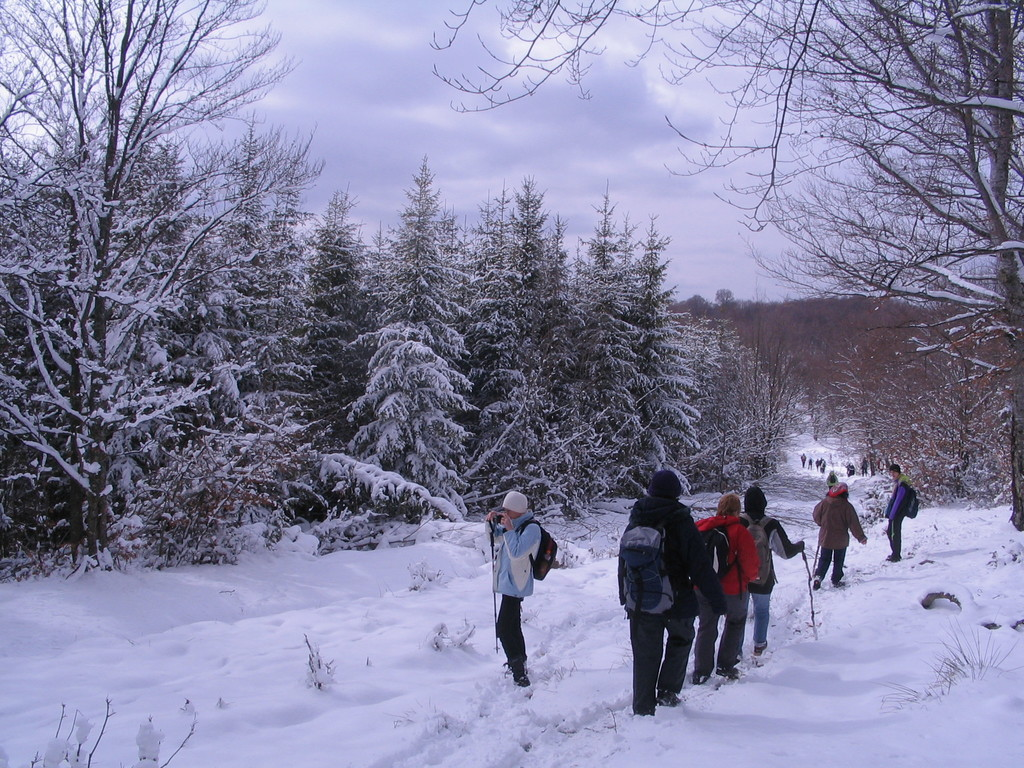Tree: (427, 0, 1023, 535), (0, 4, 432, 581)
